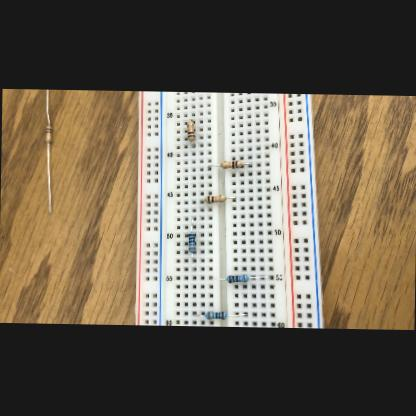breadboard: (133, 90, 327, 327)
resistor: (204, 193, 226, 203), (220, 159, 242, 168), (226, 273, 248, 282), (187, 230, 196, 251), (186, 119, 194, 140), (206, 310, 226, 318), (46, 124, 52, 140)
wire: (46, 142, 52, 210), (46, 88, 51, 124), (191, 252, 195, 270), (206, 163, 218, 169), (227, 312, 247, 315), (210, 275, 226, 278), (249, 275, 272, 277), (191, 215, 194, 230), (226, 196, 236, 199), (242, 162, 252, 165), (190, 140, 194, 145), (194, 312, 204, 314), (200, 198, 204, 202), (189, 118, 194, 121)
